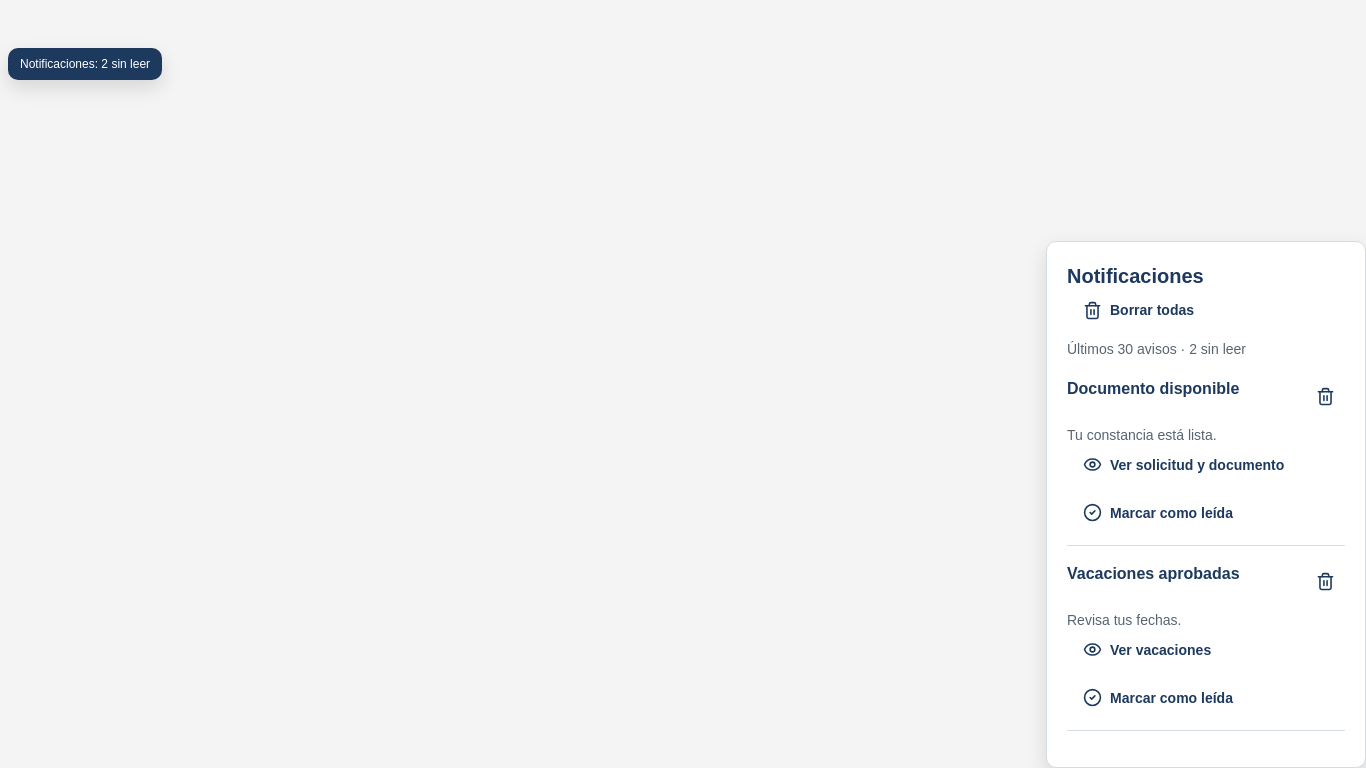
Test: Notificaciones propias › conserva marcar leída y actualiza la campana al borrar una
(page scrolled)
What coordinates should you click on to do the following:
click the button "Marcar como leída" below "Tu constancia está lista."
I would click on:
 (1158, 513)
Its box is x1=1067 y1=493 x2=1249 y2=533.
(page scrolled)
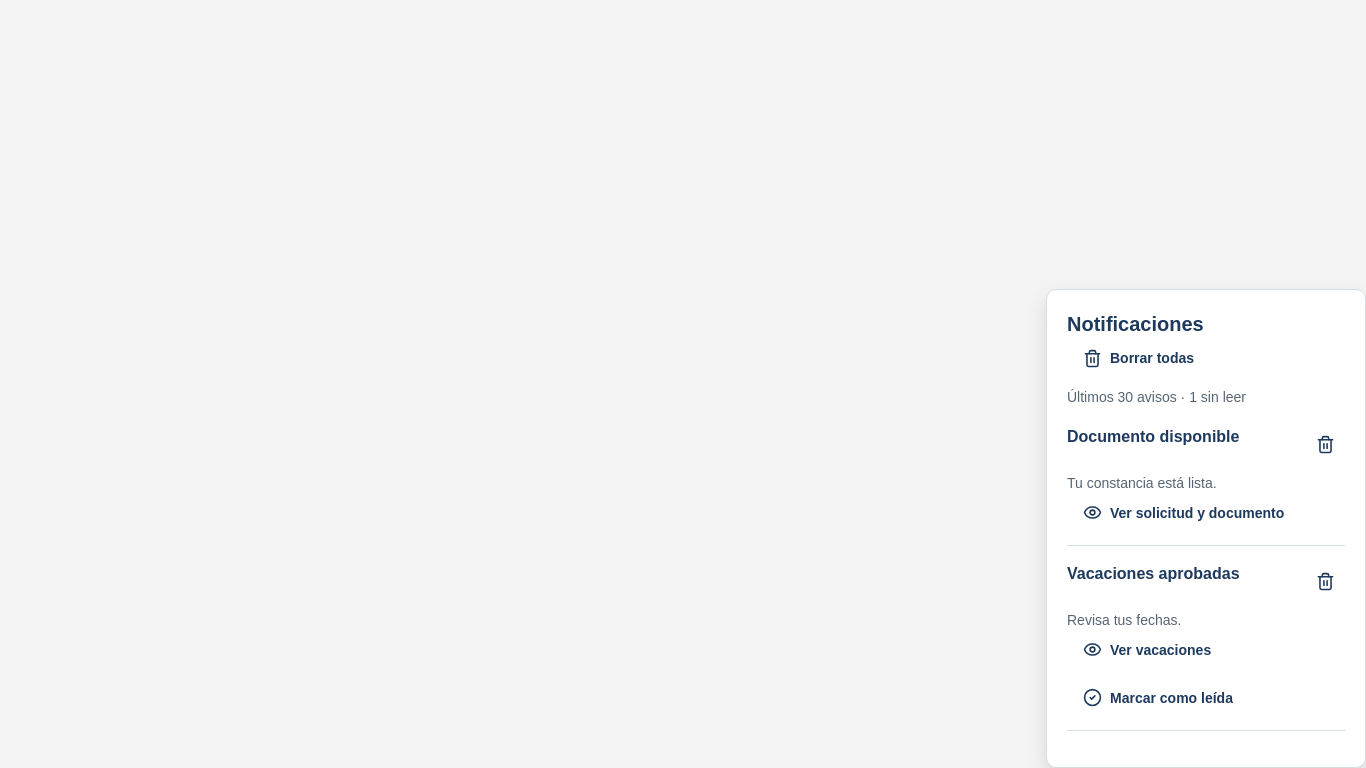
What coordinates should you click on to do the following:
click the button named "Borrar notificación: Vacaciones aprobadas"
I would click on:
 (1325, 582)
Its box is x1=1305 y1=562 x2=1345 y2=602.
(page scrolled)
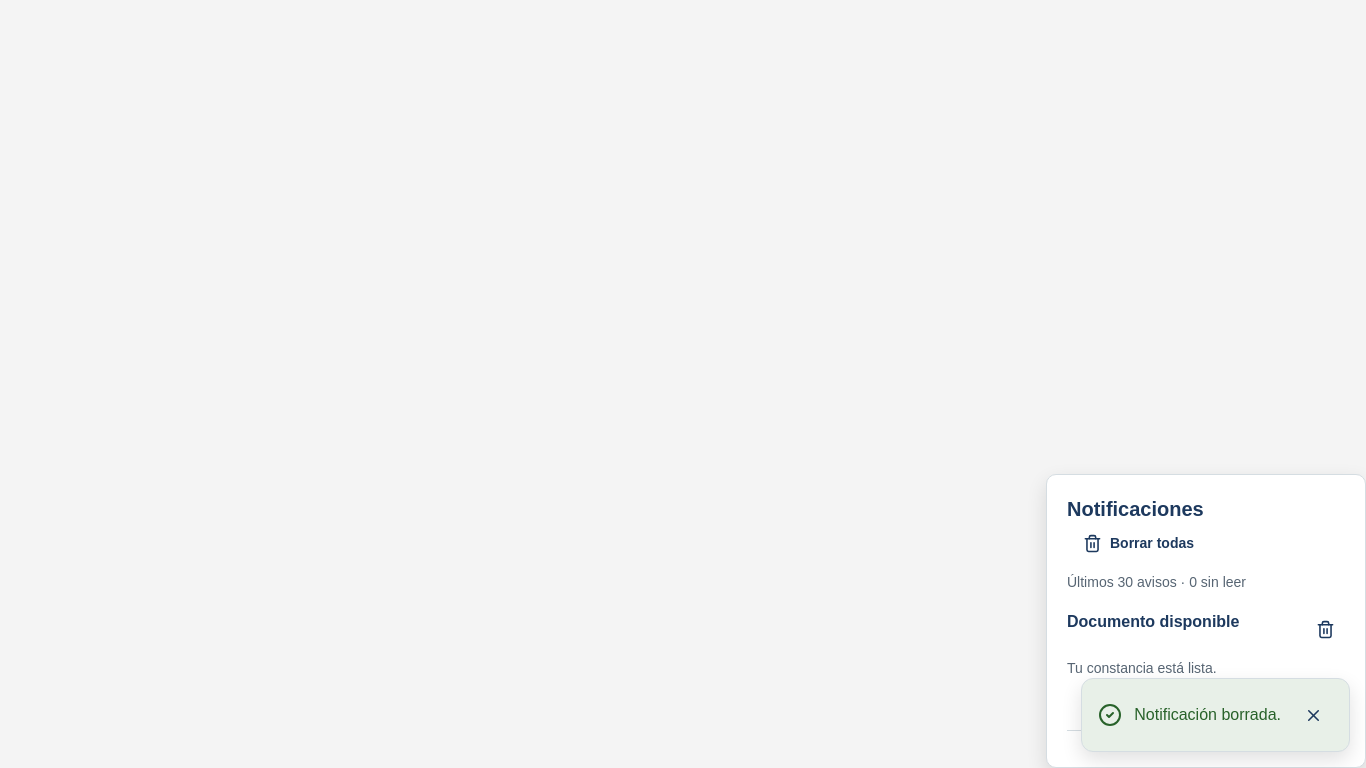
Check: the text "Documento disponible" is shown, box x1=1067 y1=610 x2=1240 y2=634
Check: the text "Vacaciones aprobadas" is gone
